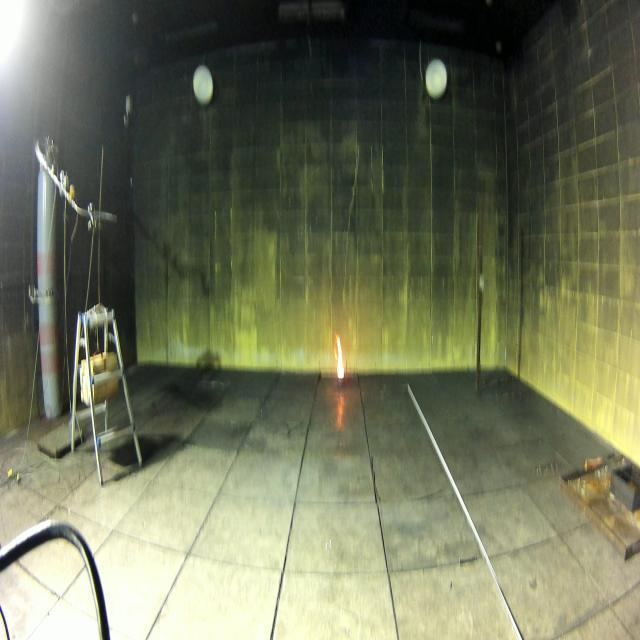Fire: (334, 332, 344, 379)
